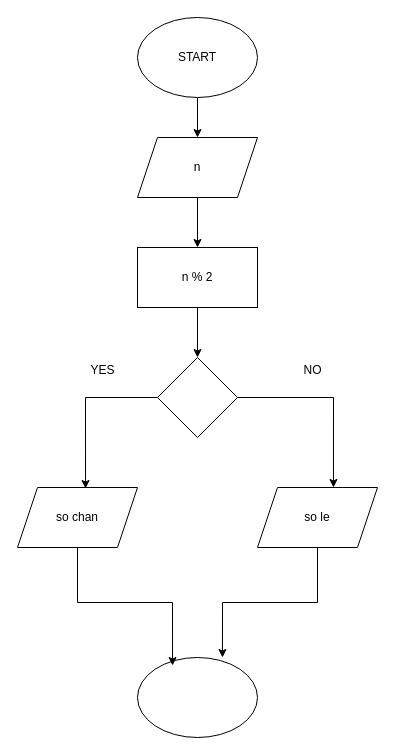
Some shapes in this 395 by 755 pixel diagram are drawn without their labels. Each missing label, with the centre of its shape:
"END" belongs at pixel 197 697.
"n%2==0" belongs at pixel 197 397.
